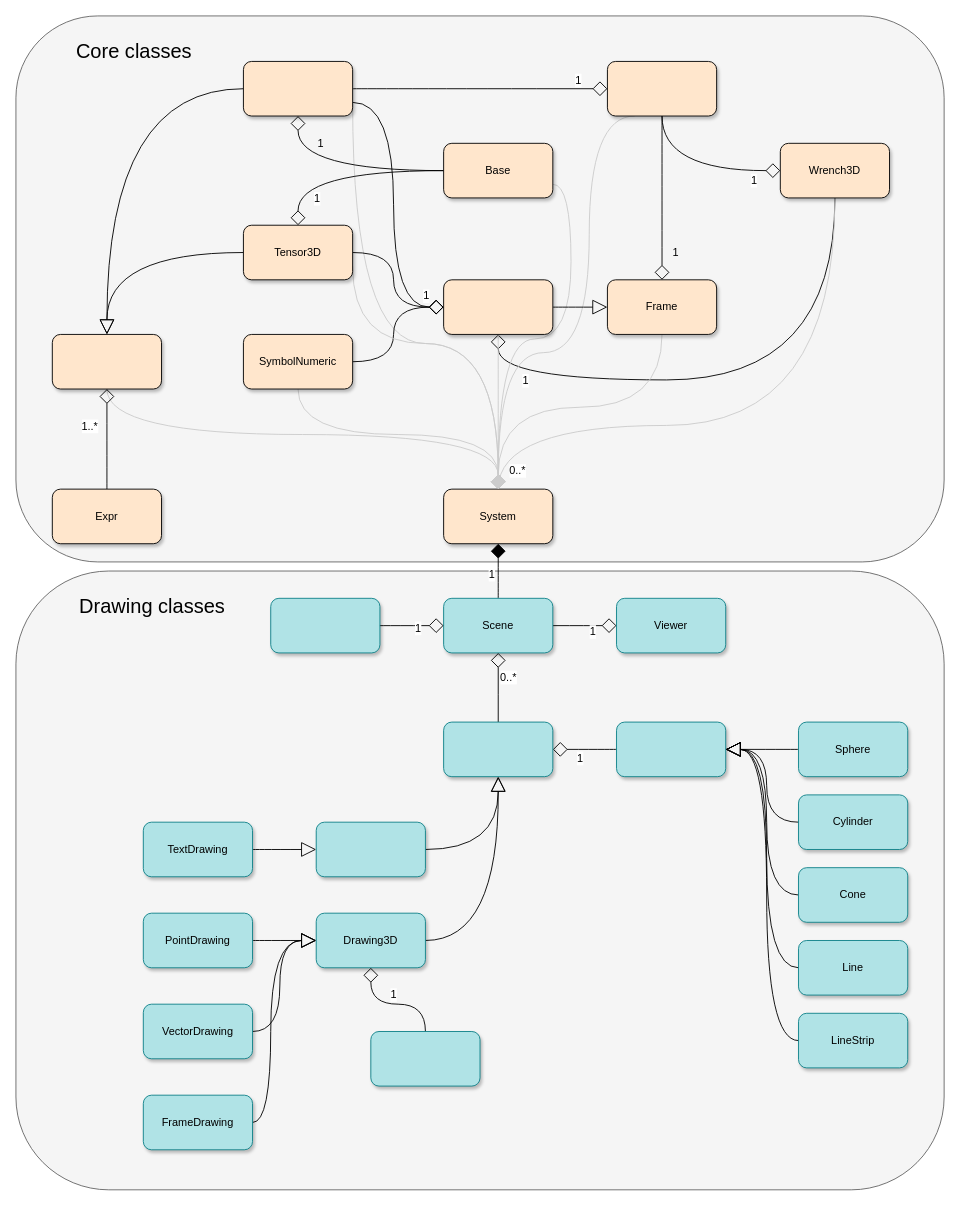
Image size: 960x1206. Some labels were removed from this diagram. The shapes that lost their labels are listed below. From the top down, each one's centre as x and y in pixels, then its label:
At (298,89): "Vector3D".
At (662,89): "Point".
At (498,308): "Solid".
At (107,362): "Matrix".
At (325,626): "Simulation".
At (498,750): "Drawing".
At (671,750): "Geometry".
At (371,850): "Drawing2D".
At (425,1059): "Transform".
